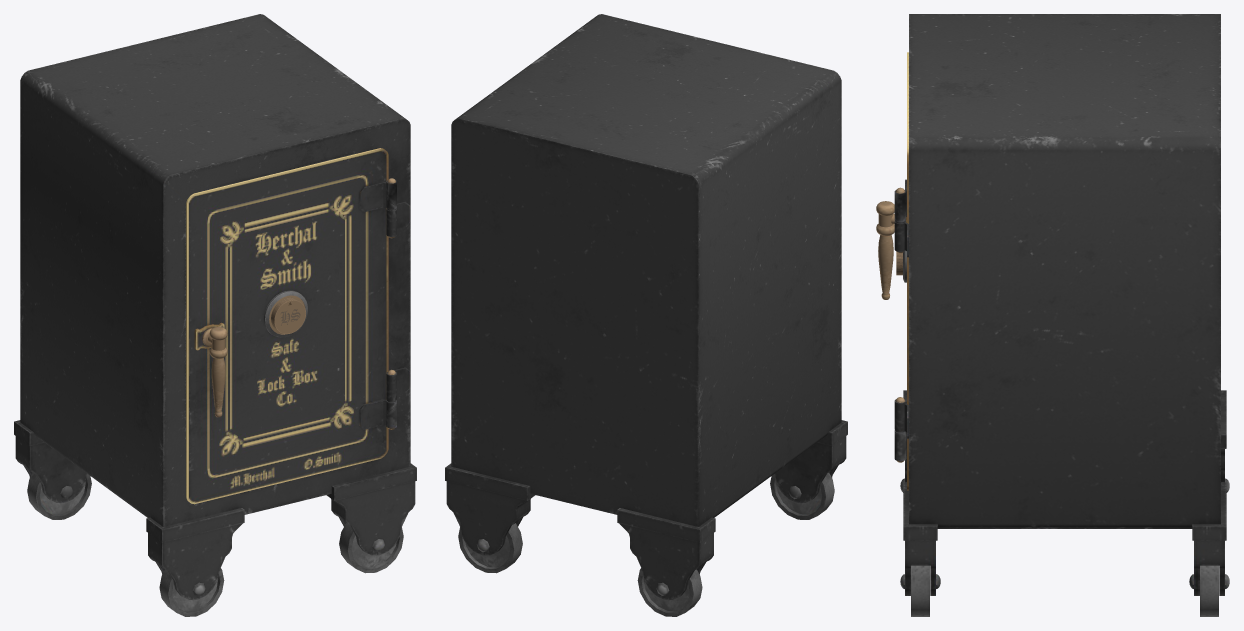
File: Antique_Safe.fbx
3 renders of one model, left to right at view 1: azimuth 30°, elevation 25°; view 2: azimuth 150°, elevation 25°; view 3: azimuth 270°, elevation 25°, orthographic. The views are drawn at different scales.
Parts seen in each view (by area): view 1: Antique_Safe, Antique_Safe.001; view 2: Antique_Safe; view 3: Antique_Safe, Antique_Safe.001.
Part boxes in pixels (x1,y1,x2,y2): Antique_Safe: [14, 14, 416, 616]; Antique_Safe.001: [186, 148, 396, 504]; Antique_Safe: [445, 14, 847, 616]; Antique_Safe: [894, 14, 1229, 616]; Antique_Safe.001: [876, 52, 908, 490].
Size of the model in its own units: 0.5182 by 0.5701 by 0.8712.
Materials: 1 (1 with a texture image).
